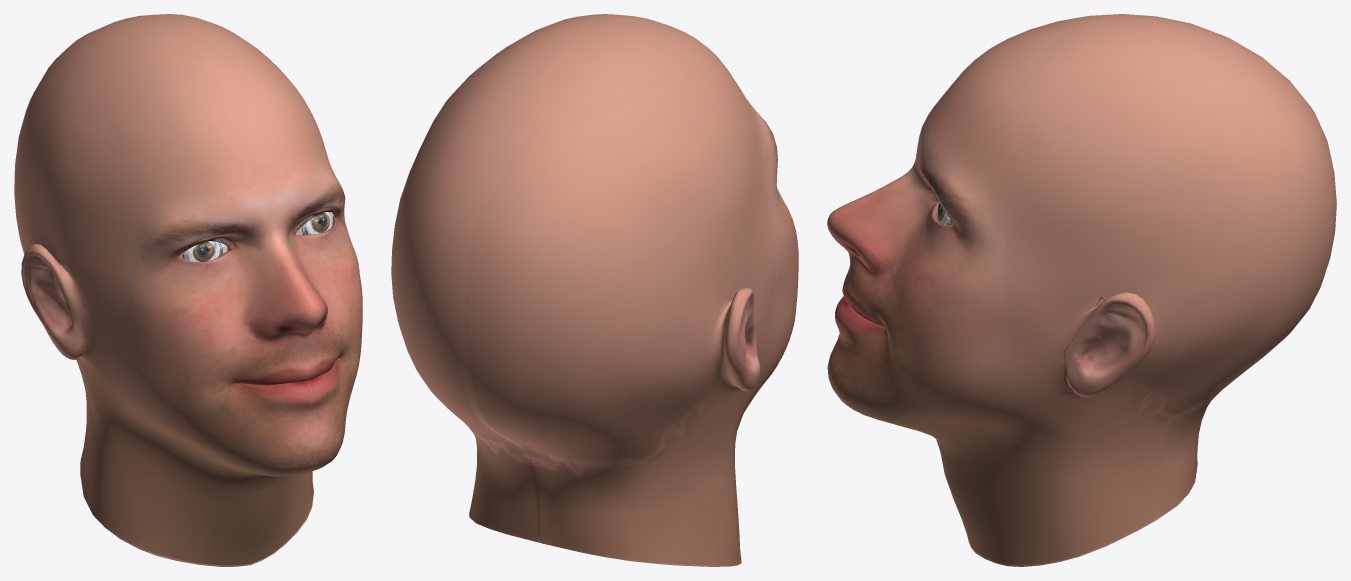
File: Head.fbx
3 renders of one model, left to right at view 1: azimuth 30°, elevation 25°; view 2: azimuth 150°, elevation 25°; view 3: azimuth 270°, elevation 25°, orthographic. The views are drawn at different scales.
Visible parts, largest first — view 1: Skin, LeftEye, RightEye; view 2: Skin; view 3: Skin.
Part boxes in pixels (x1=…): Skin: x1=14, y1=14, x2=362, y2=566; LeftEye: x1=179, y1=241, x2=227, y2=262; RightEye: x1=295, y1=212, x2=333, y2=235; Skin: x1=391, y1=14, x2=798, y2=566; Skin: x1=827, y1=14, x2=1336, y2=566.
Bounding box in the file's own units: 176 × 278 × 249.
